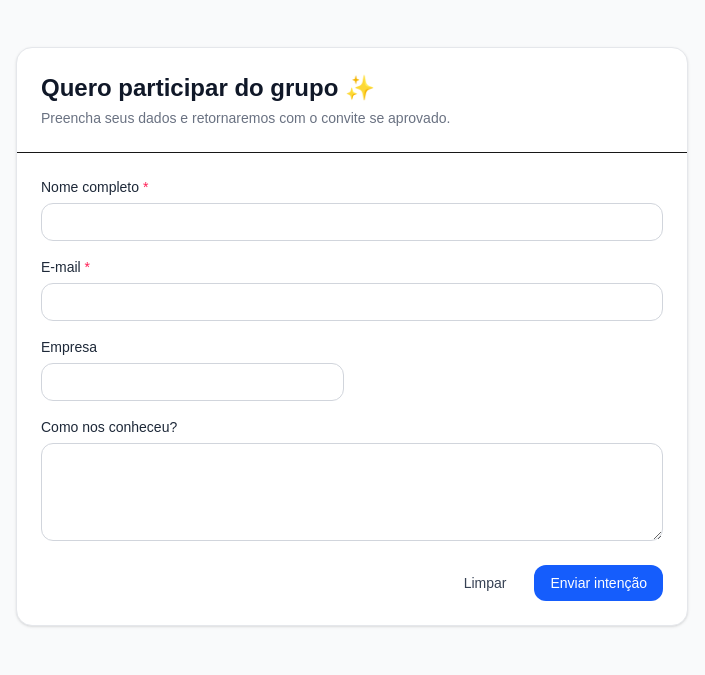
IntentPage › envia intenção com dados válidos
In the field labelled "Nome completo *": (352, 222) [41, 202, 663, 240], type "Maria Teste"
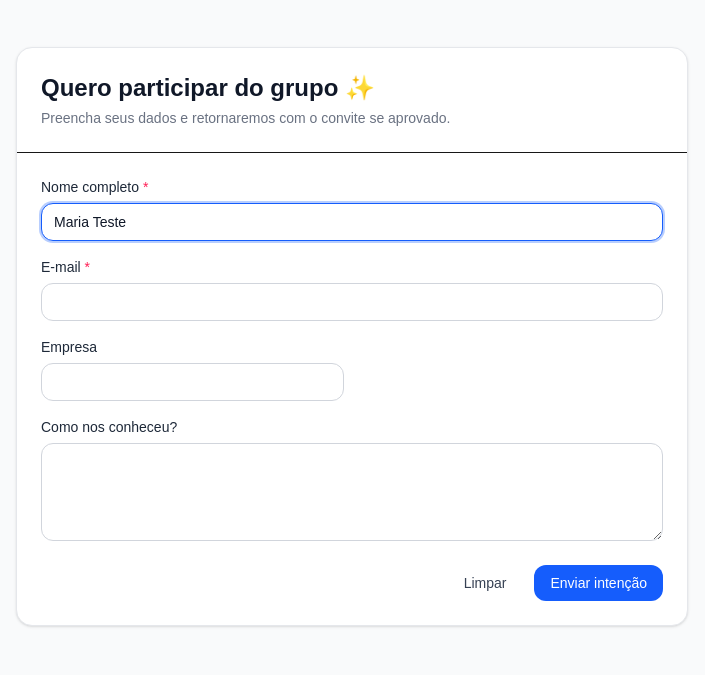
In the field labelled "E-mail *": (352, 302) [41, 282, 663, 320], type "maria@example.com"
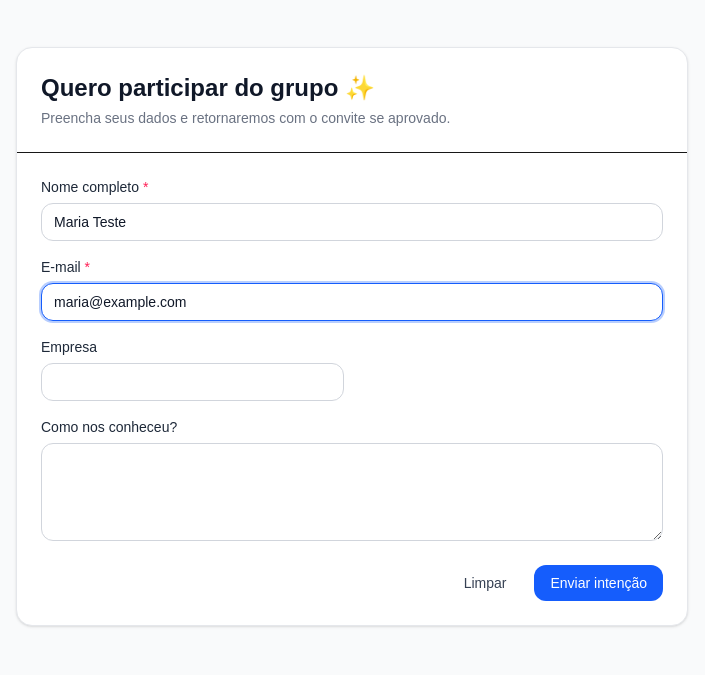
Click the button "Enviar intenção": (599, 582) [534, 564, 663, 600]
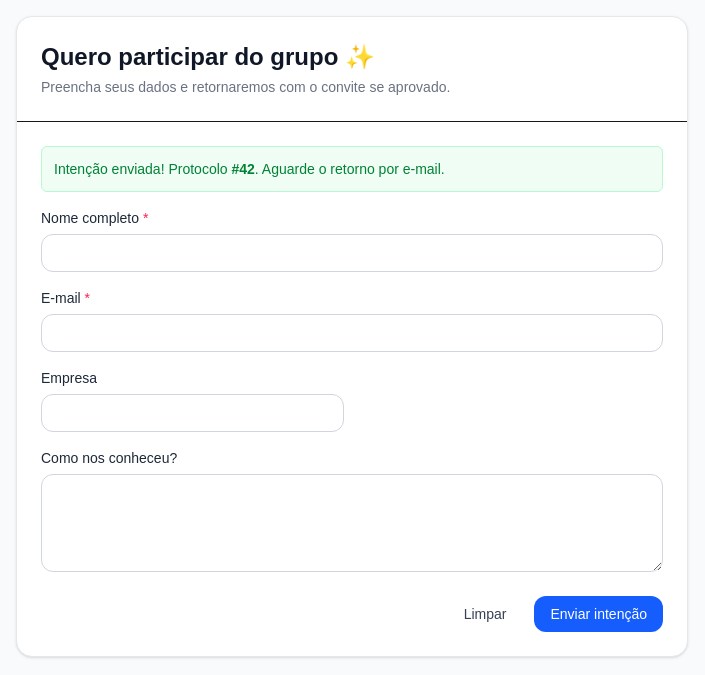
Now the text "#42" is shown, box [232, 160, 255, 176]
